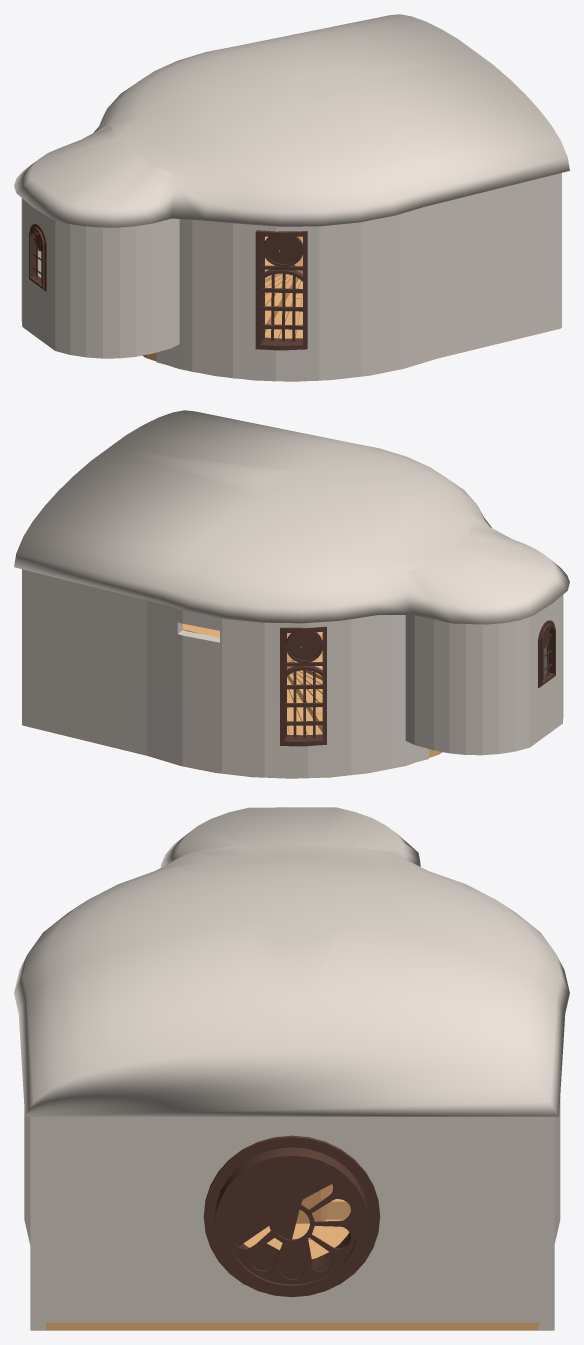
The model's file is 01_Room.fbx.
The picture shows the model from 3 angles, top to bottom: view 1: azimuth 30°, elevation 25°; view 2: azimuth 150°, elevation 25°; view 3: azimuth 270°, elevation 25°; orthographic projection. The views are drawn at different scales.
Visible parts, largest first — view 1: Roof, UpperWall01, NicheWall, BottomWall02, UpperWindowL, UpperFloorLaminate, UpperWindowFlowerL, NicheWindowInnerEdge, UpperFloor; view 2: Roof, UpperWall02, NicheWall, BottomWall03, UpperWindowR, UpperFloorLaminate, UpperWindowFlowerR, NicheWindowInnerEdge, UpperFloor; view 3: Roof, BottomWall01, BottomWindowFlower, BottomWallInner, BottomFloor, BottomWindowOuter, BottomWall03, BottomWall02, BottomFloorLaminate, UpperWall02, UpperWall01, NutScrewFloor.
Part boxes in pixels (x1,y1,x2,y2): Roof: [14, 14, 569, 227]; UpperWall01: [156, 204, 436, 381]; NicheWall: [21, 198, 179, 358]; BottomWall02: [436, 173, 561, 358]; UpperWindowL: [255, 230, 307, 350]; UpperFloorLaminate: [265, 236, 302, 338]; UpperWindowFlowerL: [265, 237, 300, 263]; NicheWindowInnerEdge: [29, 227, 44, 288]; UpperFloor: [142, 273, 435, 381]; Roof: [14, 410, 569, 624]; UpperWall02: [147, 600, 428, 778]; NicheWall: [405, 595, 563, 755]; BottomWall03: [22, 569, 147, 755]; UpperWindowR: [280, 626, 326, 746]; UpperFloorLaminate: [287, 632, 322, 735]; UpperWindowFlowerR: [288, 632, 320, 660]; NicheWindowInnerEdge: [540, 623, 555, 685]; UpperFloor: [147, 670, 442, 778]; Roof: [14, 807, 569, 1116]; BottomWall01: [46, 1116, 538, 1322]; BottomWindowFlower: [225, 1165, 358, 1284]; BottomWallInner: [214, 1147, 368, 1295]; BottomFloor: [31, 1226, 553, 1330]; BottomWindowOuter: [203, 1135, 380, 1297]; BottomWall03: [538, 1116, 554, 1330]; BottomWall02: [30, 1116, 45, 1330]; BottomFloorLaminate: [243, 1219, 349, 1258]; UpperWall02: [554, 1098, 560, 1243]; UpperWall01: [24, 1109, 30, 1244]; NutScrewFloor: [296, 1184, 332, 1223].
Bounding box in the file's own units: 887 × 400 × 684.
